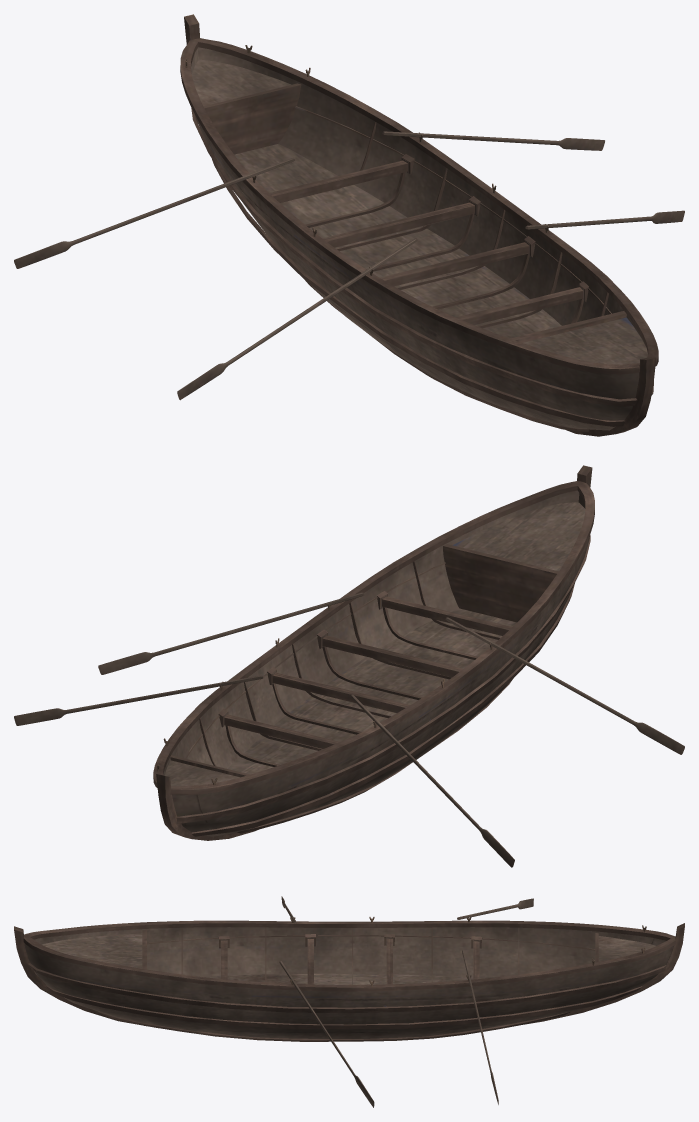
File: desktop.glb
3 renders of one model, top to bottom at view 1: azimuth 30°, elevation 25°; view 2: azimuth 150°, elevation 25°; view 3: azimuth 270°, elevation 25°, orthographic. The views are drawn at different scales.
Visible parts, largest first — view 1: SM_Boat_01; view 2: SM_Boat_01; view 3: SM_Boat_01.
Boxes of the visible parts, x1,y1,x2,y2 form: SM_Boat_01: (14, 14, 684, 436); SM_Boat_01: (14, 465, 684, 867); SM_Boat_01: (14, 896, 684, 1107).
Size of the model in its own units: 6.81 by 1.75 by 9.46.
Materials: 1 (1 with a texture image).
